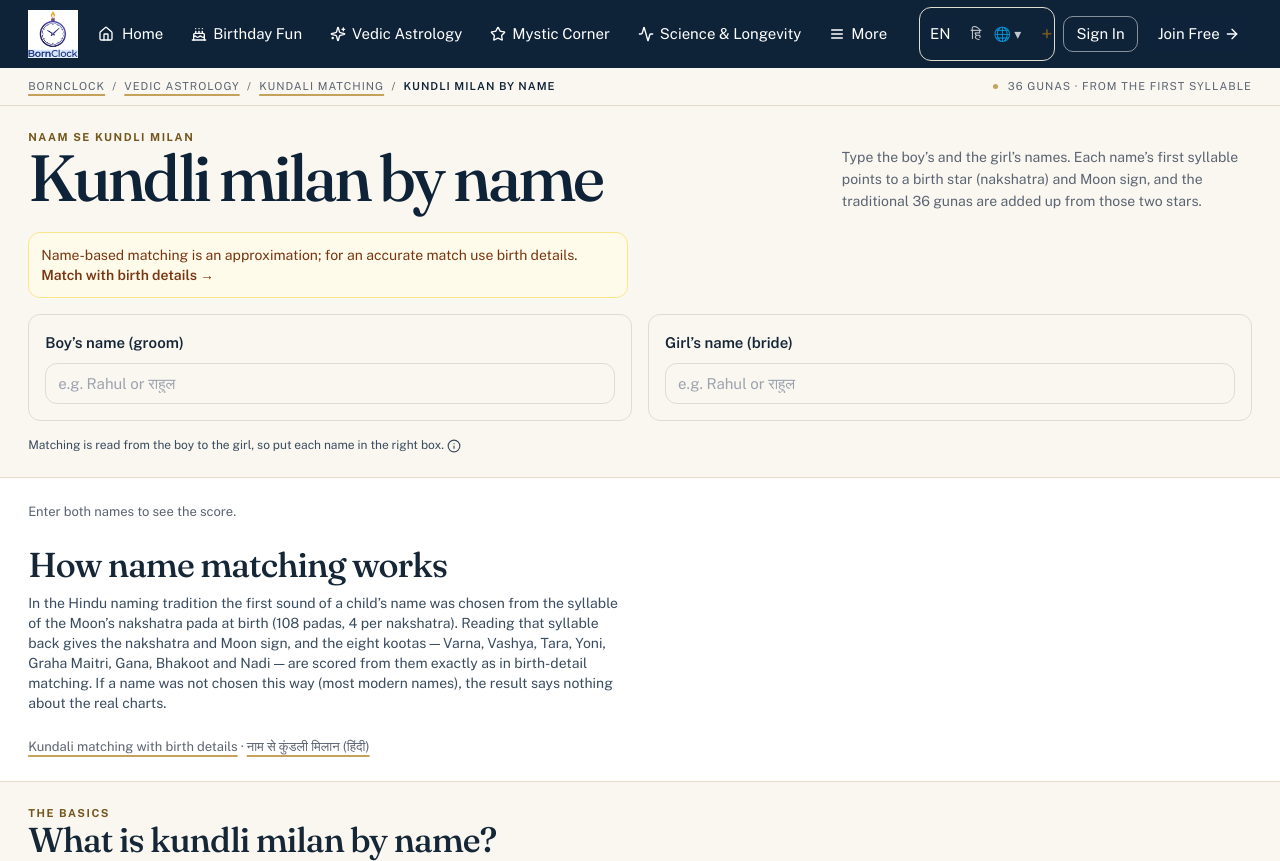
Test: /kundli-milan-by-name › Dev × Radha: shows the two readings of "Dev" and scores the chosen one
Type "Dev" into the field labelled "Boy’s name (groom)" at (330, 383), box [45, 363, 615, 404]
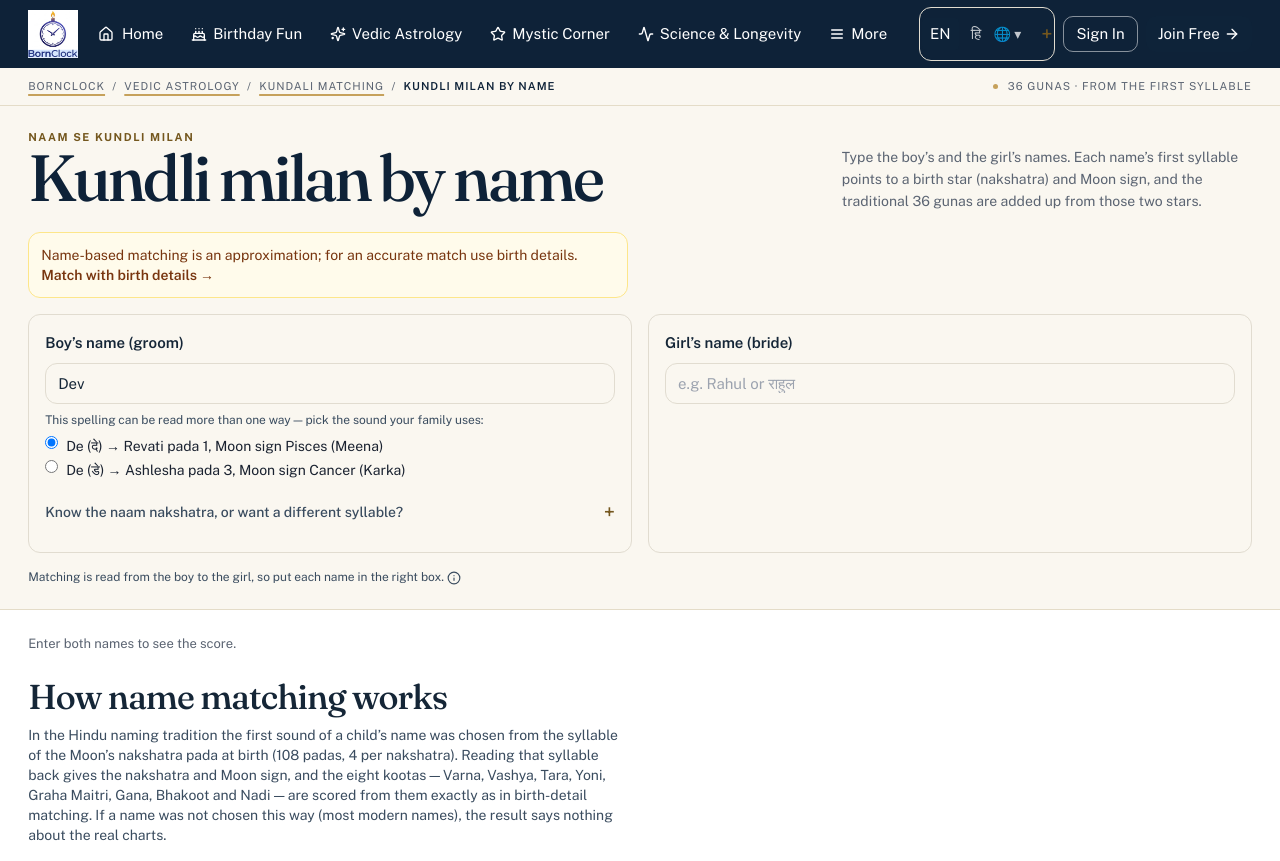
Type "Radha" into the field labelled "Girl’s name (bride)" at (950, 383), box [665, 363, 1235, 404]
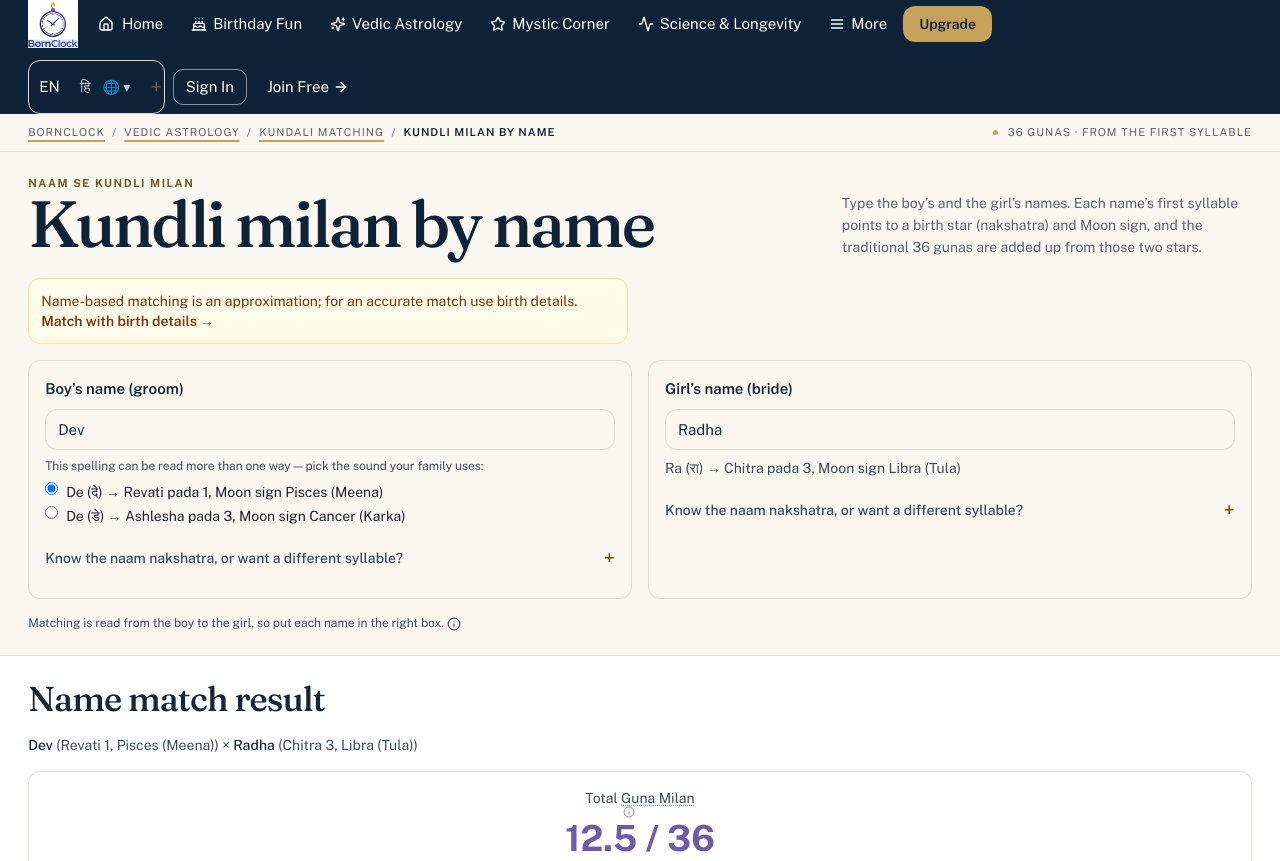
Expected: the text "12.5 / 36" is shown, [565, 816, 715, 858]
